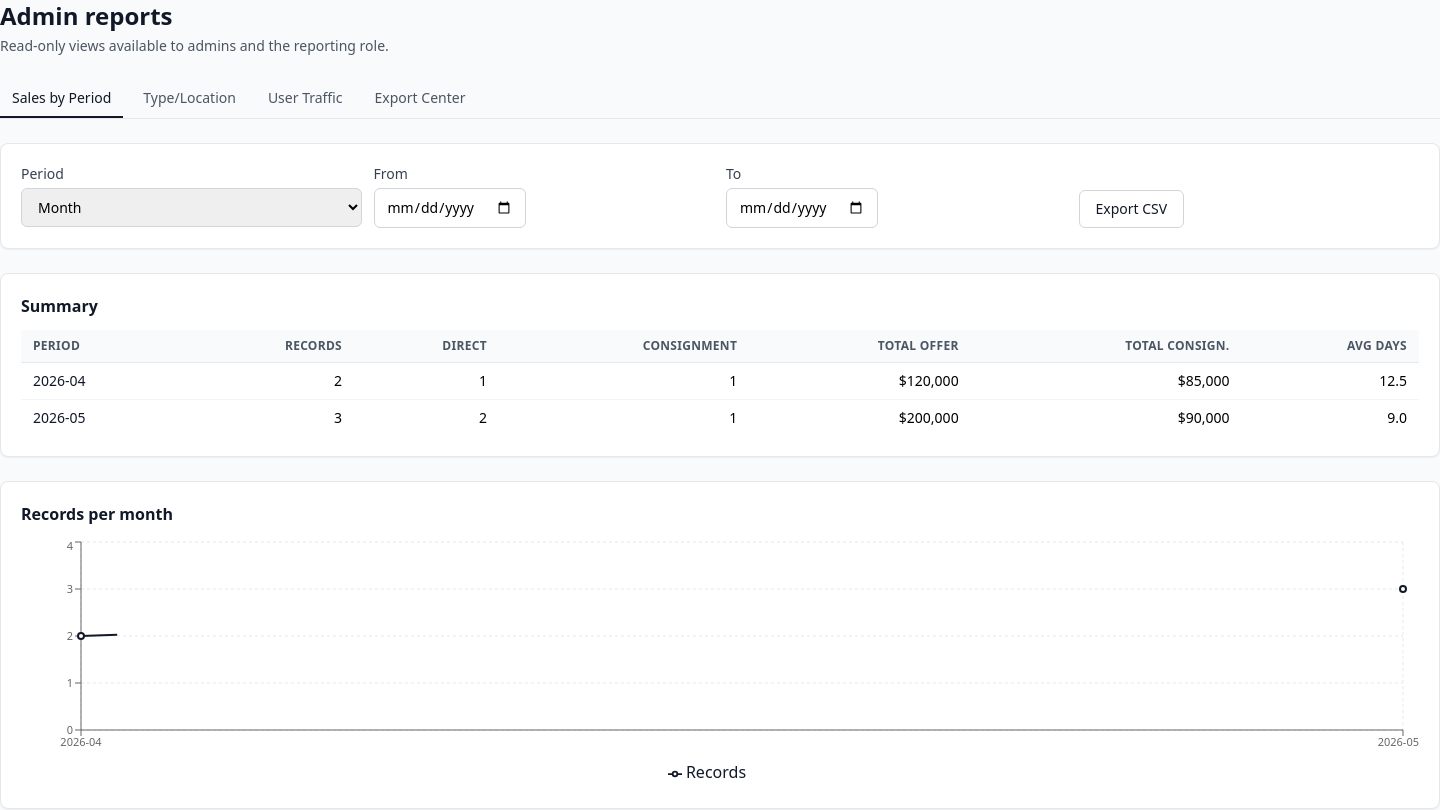
Test: AdminReportsPage › User Traffic tab shows top pages table
Click the tab "User Traffic": (305, 99) [256,80,355,118]
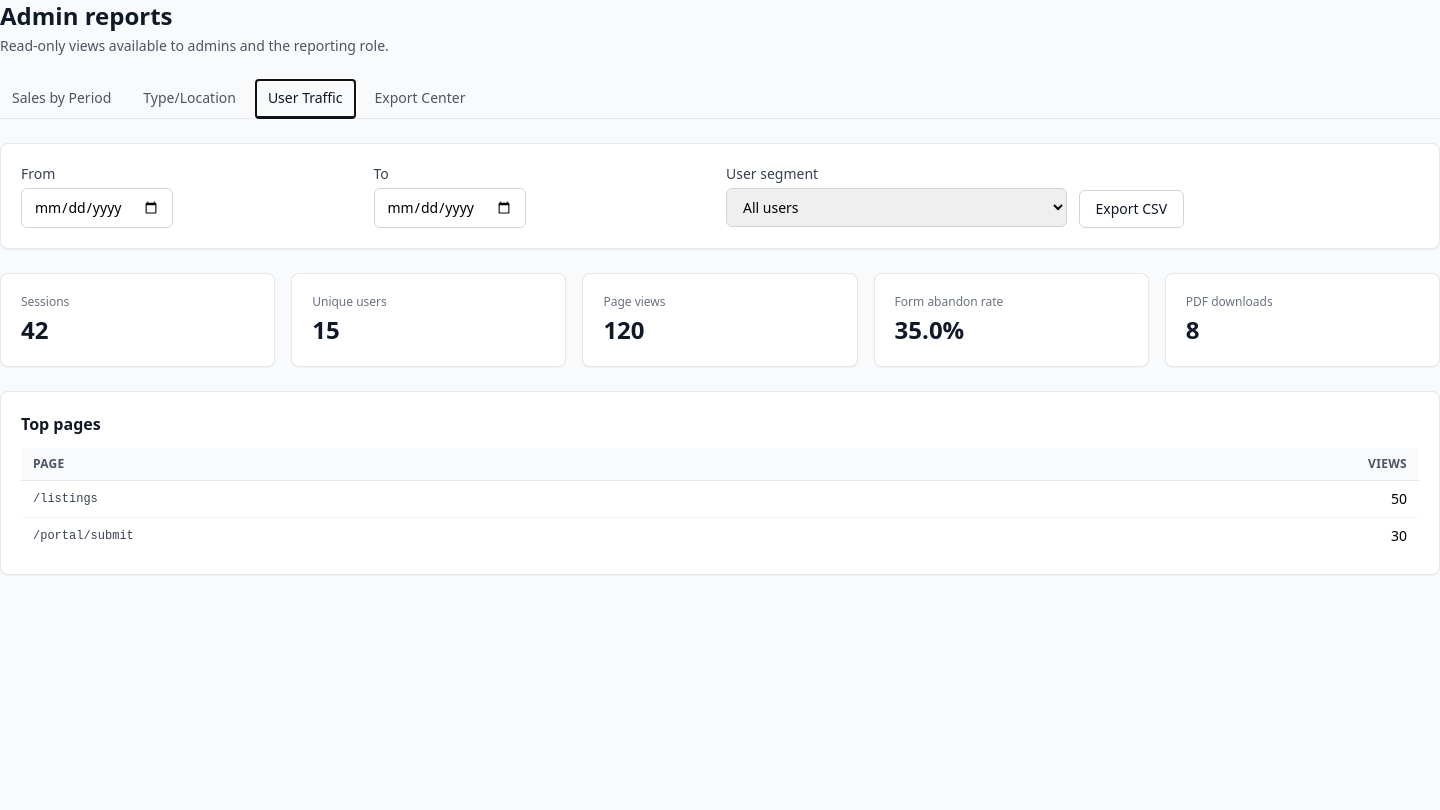
Expected: the text "/listings" is shown, [21,480,950,518]
Expected: the text "50" is shown, [950,480,1419,518]
